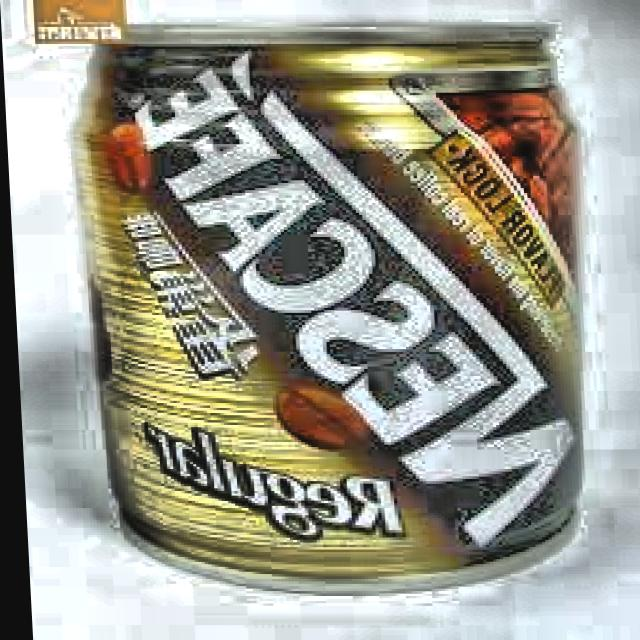can: (62, 6, 605, 601)
